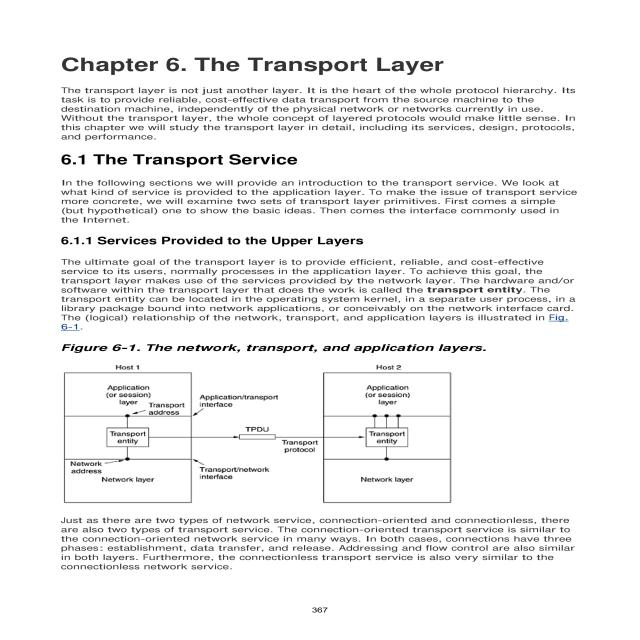diagram: (44, 334, 640, 512)
